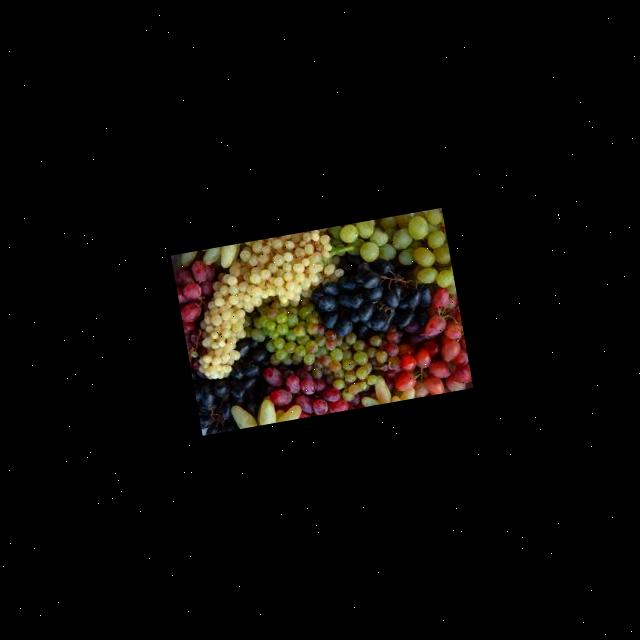grape: (170, 207, 471, 434)
